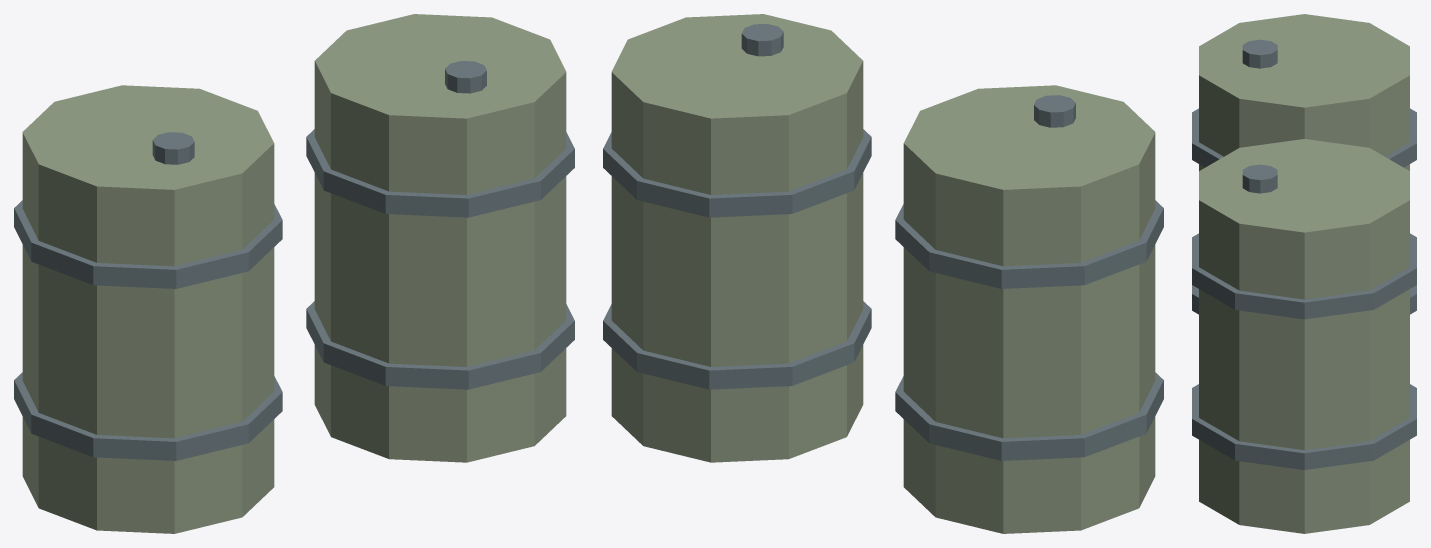
File: zombie-quarantine-streets-fuel-drum-pair-8591f276__19360.glb
3 views of the same model, side by side, from view 1: azimuth 30°, elevation 25°; view 2: azimuth 150°, elevation 25°; view 3: azimuth 270°, elevation 25° (orthographic). The views are drawn at different scales.
Visible parts, largest first — view 1: fuel-drum-pair; view 2: fuel-drum-pair; view 3: fuel-drum-pair.
Boxes of the visible parts, x1=… form: fuel-drum-pair: x1=14, y1=14, x2=574, y2=533; fuel-drum-pair: x1=603, y1=14, x2=1163, y2=533; fuel-drum-pair: x1=1192, y1=14, x2=1416, y2=533.
Size of the model in its own units: 1.44 by 0.94 by 0.6086.
